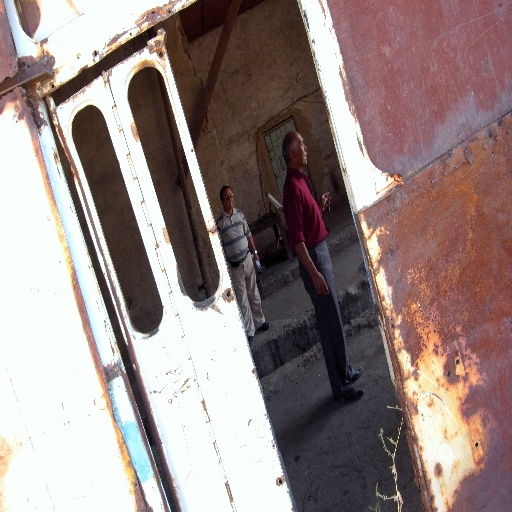hand: (313, 273, 327, 295), (320, 189, 332, 212), (252, 253, 260, 265)
